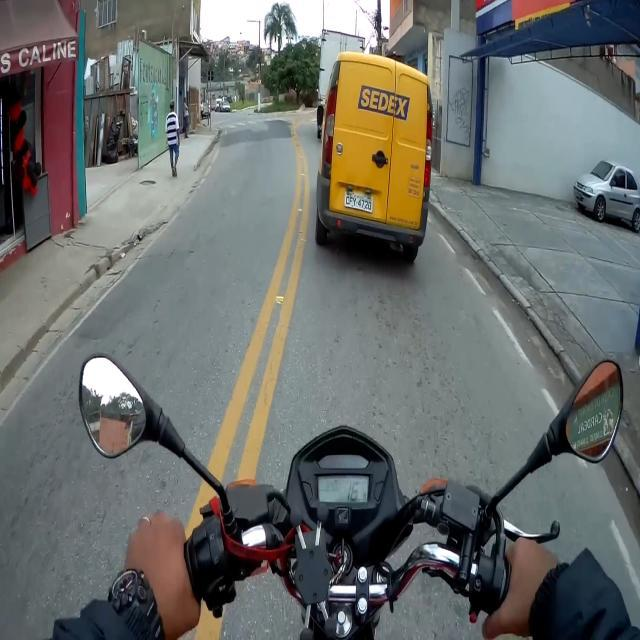Placa_mercosul_carro: (344, 192, 372, 212)
